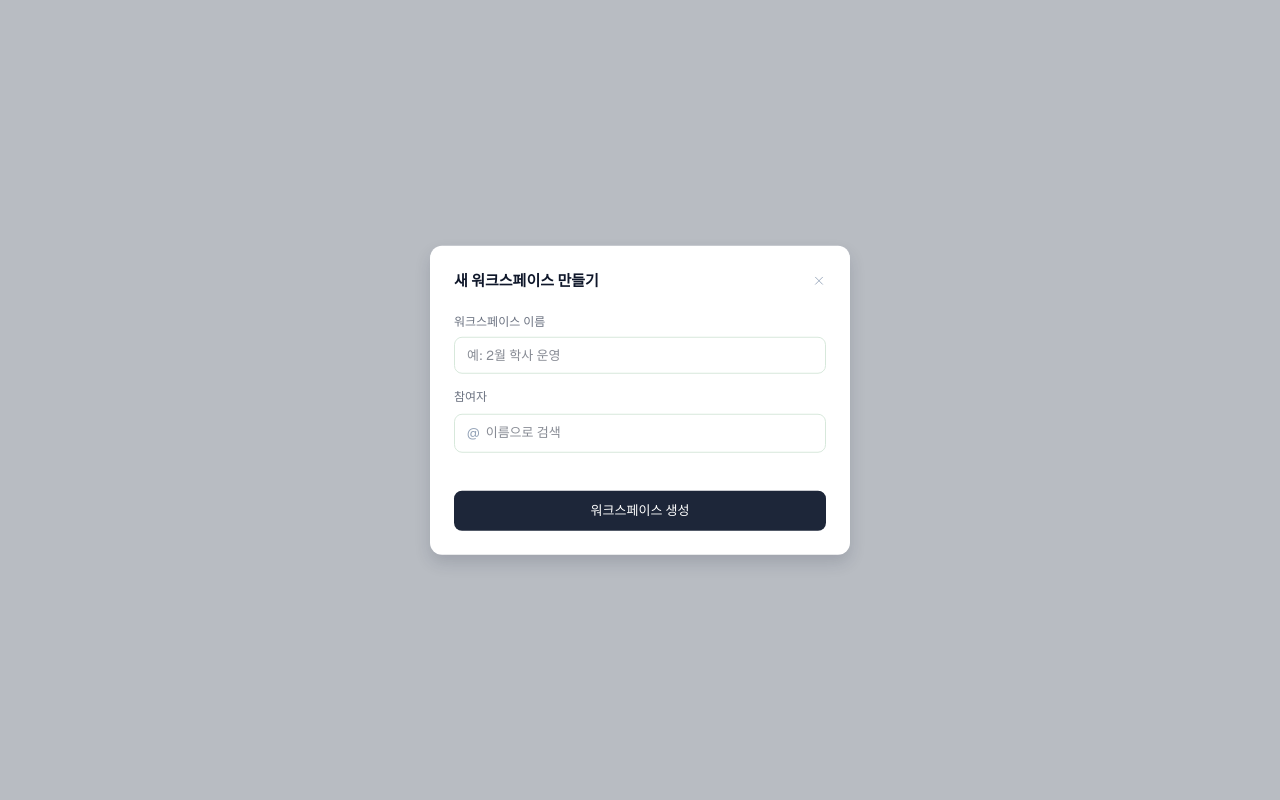
Test: CreateWorkspaceModal › 생성 실패 시 메시지를 표시하고 모달을 유지한다
Type "신규 워크스페이스" into the field labelled "워크스페이스 이름" at (640, 355), box [454,336,826,373]
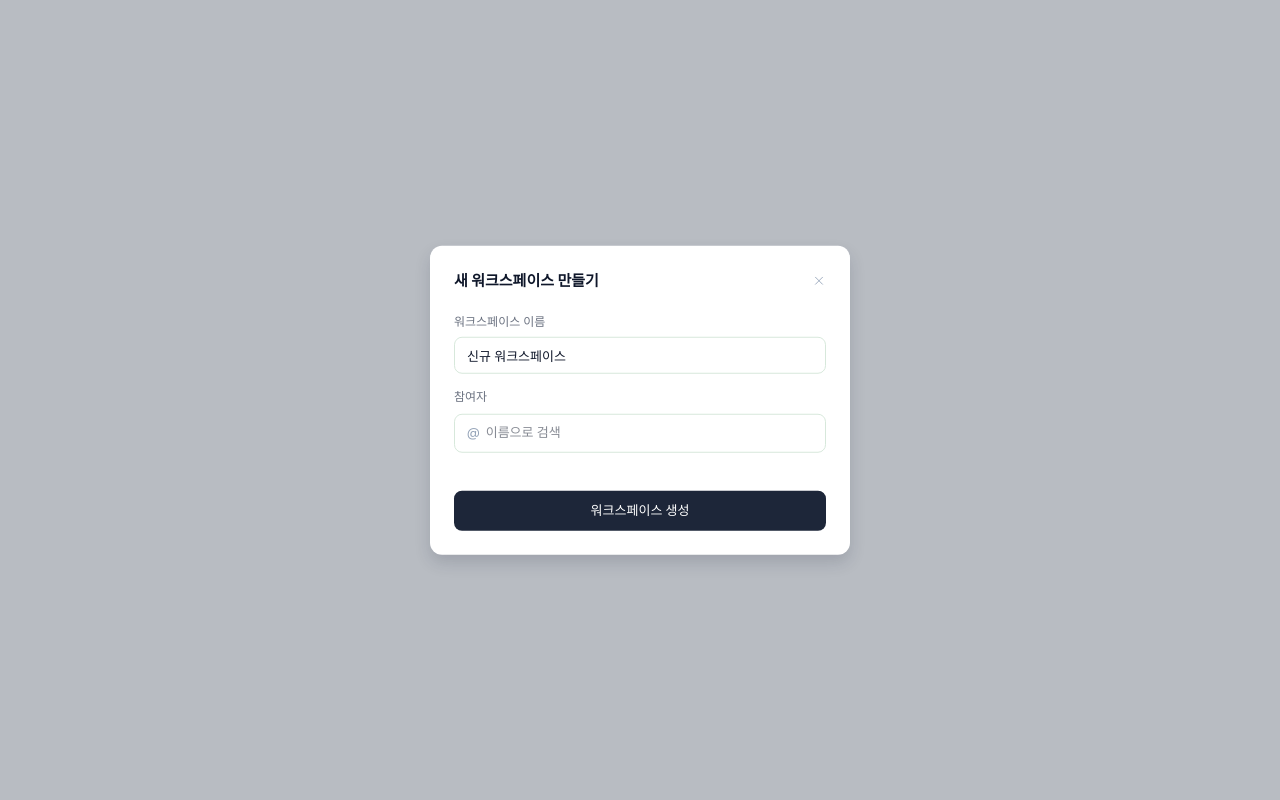
Submit the form "워크스페이스 생성", box [430,246,850,554]
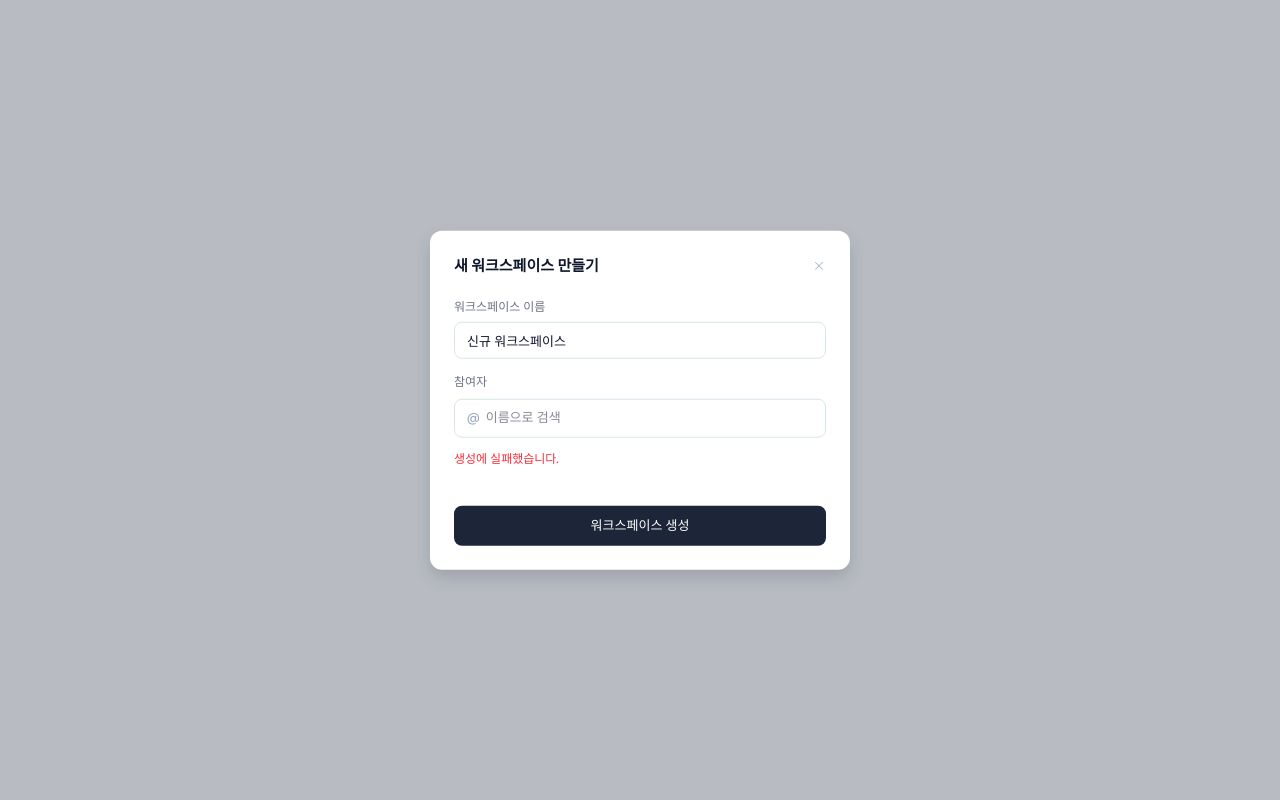
Result: the text "생성에 실패했습니다." is shown at [454,450,559,466]
